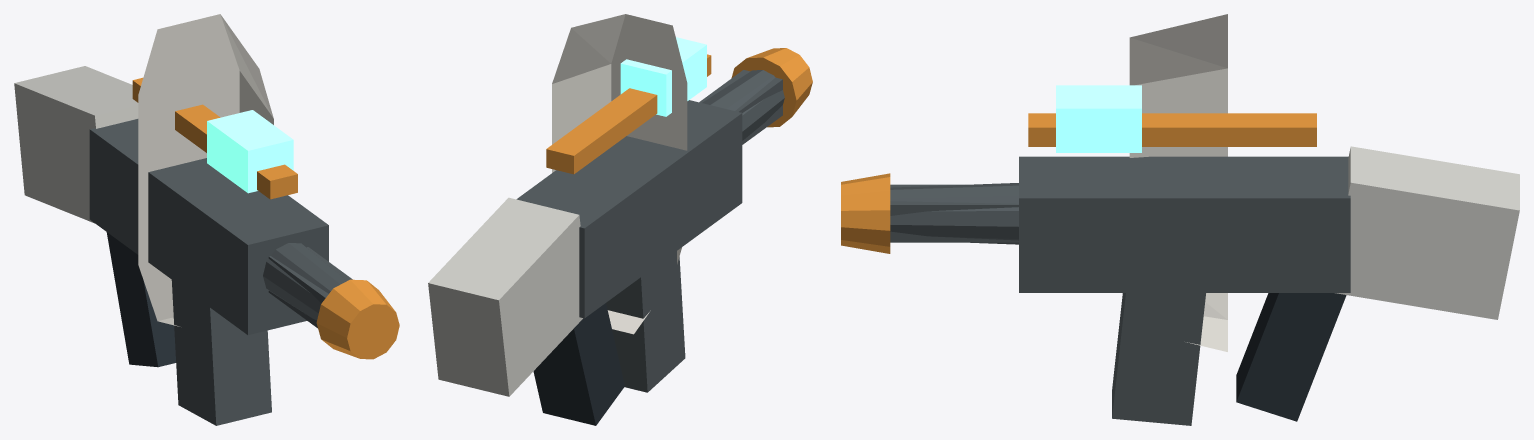
The model's file is k11_rifle_v2.glb.
3 views of the same model, side by side, from view 1: azimuth 30°, elevation 25°; view 2: azimuth 150°, elevation 25°; view 3: azimuth 270°, elevation 25° (orthographic). The views are drawn at different scales.
Visible parts, largest first — view 1: K11_RenderMesh; view 2: K11_RenderMesh; view 3: K11_RenderMesh.
Part boxes in pixels (left/top/right/bottom): K11_RenderMesh: left=14, top=14, right=399, bottom=425; K11_RenderMesh: left=428, top=14, right=812, bottom=425; K11_RenderMesh: left=841, top=14, right=1519, bottom=425.
Bounding box in the file's own units: 0.2 × 0.6858 × 1.11.
